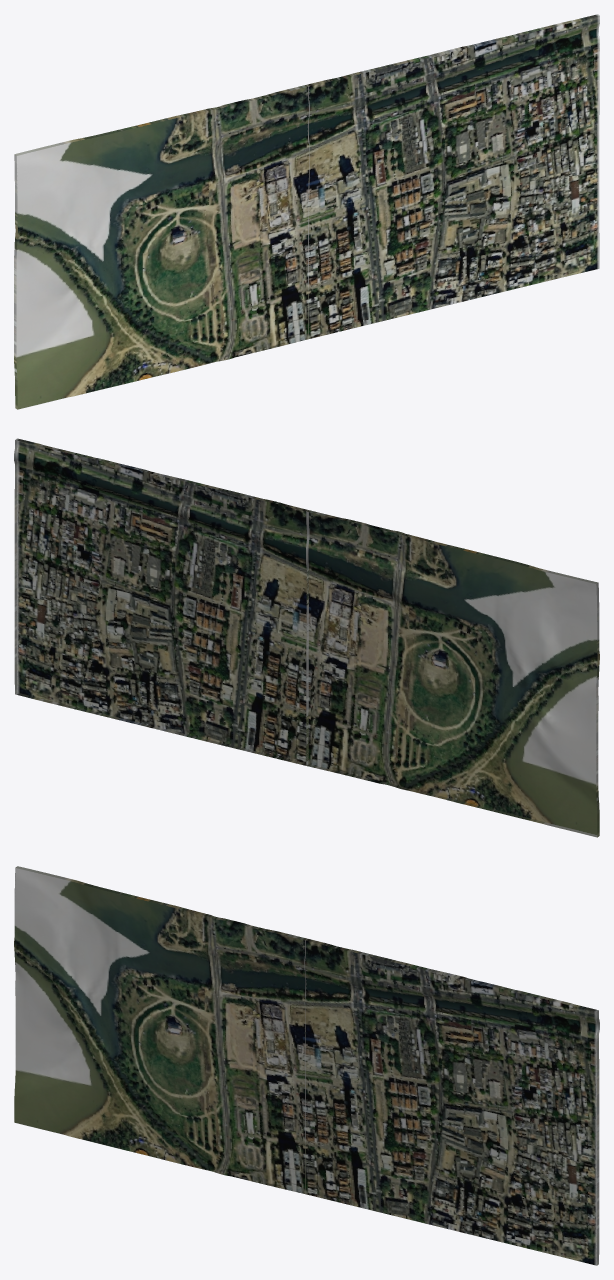
File: novo9.obj
3 renders of one model, top to bottom at view 1: azimuth 30°, elevation 25°; view 2: azimuth 150°, elevation 25°; view 3: azimuth 330°, elevation 25°, orthographic.
Parts seen in each view (by area): view 1: novo9_L0_X0_Y0_subtile.osg_TerrainTile_MatrixTransform_0, novo9_L0_X0_Y0_subtile.osg_TerrainTile_MatrixTransform_1; view 2: novo9_L0_X0_Y0_subtile.osg_TerrainTile_MatrixTransform_1, novo9_L0_X0_Y0_subtile.osg_TerrainTile_MatrixTransform_0; view 3: novo9_L0_X0_Y0_subtile.osg_TerrainTile_MatrixTransform_1, novo9_L0_X0_Y0_subtile.osg_TerrainTile_MatrixTransform_0.
Part boxes in pixels (left/top/right/bottom): novo9_L0_X0_Y0_subtile.osg_TerrainTile_MatrixTransform_0: left=14, top=85, right=309, bottom=409; novo9_L0_X0_Y0_subtile.osg_TerrainTile_MatrixTransform_1: left=307, top=14, right=599, bottom=338; novo9_L0_X0_Y0_subtile.osg_TerrainTile_MatrixTransform_1: left=14, top=438, right=309, bottom=765; novo9_L0_X0_Y0_subtile.osg_TerrainTile_MatrixTransform_0: left=306, top=510, right=599, bottom=837; novo9_L0_X0_Y0_subtile.osg_TerrainTile_MatrixTransform_1: left=304, top=938, right=599, bottom=1265; novo9_L0_X0_Y0_subtile.osg_TerrainTile_MatrixTransform_0: left=14, top=866, right=306, bottom=1194.
Bounding box in the file's own units: 1341 × 558 × 19.47.
2 materials, 2 textured.
